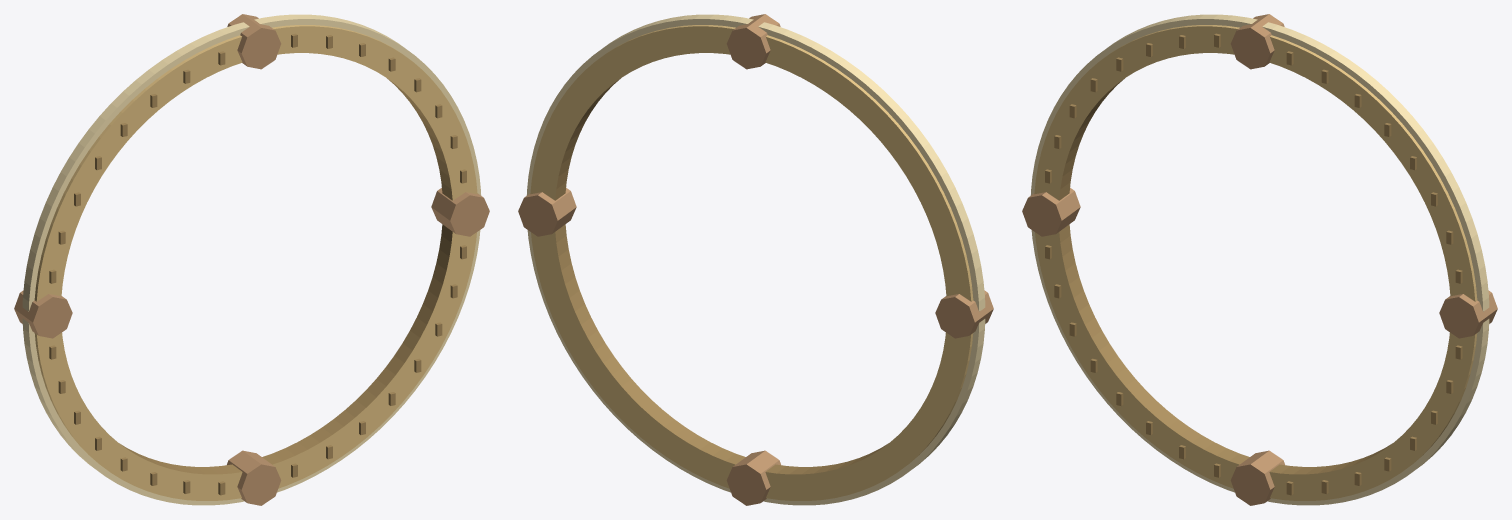
File: Ring5.obj
The picture shows the model from 3 angles, left to right: view 1: azimuth 30°, elevation 25°; view 2: azimuth 150°, elevation 25°; view 3: azimuth 330°, elevation 25°; orthographic projection.
Parts seen in each view (by area): view 1: Ring5; view 2: Ring5; view 3: Ring5.
Part boxes in pixels (x1,y1,x2,y2): Ring5: (14,14,489,505); Ring5: (518,14,993,505); Ring5: (1022,14,1497,505).
Bounding box in the file's own units: 9.2 × 9.2 × 0.66.
1 material, 1 textured.
